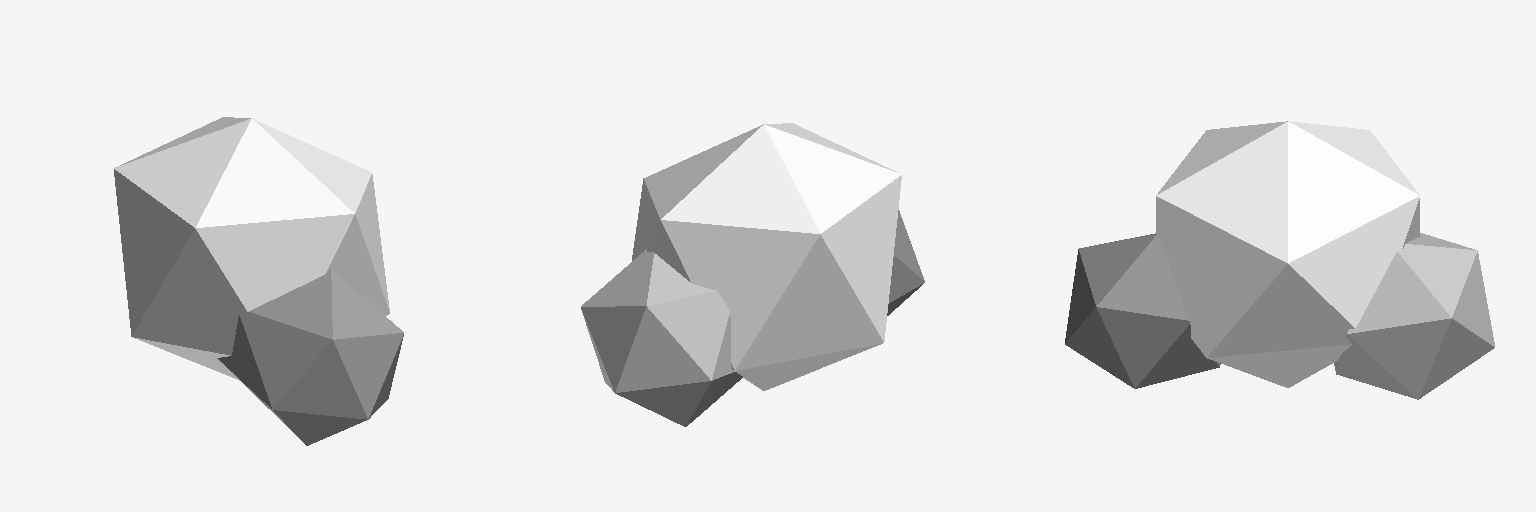
File: UltraLP_cloud_2.obj
3 renders of one model, left to right at view 1: azimuth 30°, elevation 25°; view 2: azimuth 150°, elevation 25°; view 3: azimuth 270°, elevation 25°, orthographic.
Parts seen in each view (by area): view 1: Icosphere; view 2: Icosphere; view 3: Icosphere.
Boxes of the visible parts, x1,y1,x2,y2 form: Icosphere: [114, 117, 403, 445]; Icosphere: [581, 123, 924, 426]; Icosphere: [1065, 121, 1494, 399].
Size of the model in its own units: 4.23 by 4.52 by 6.55.